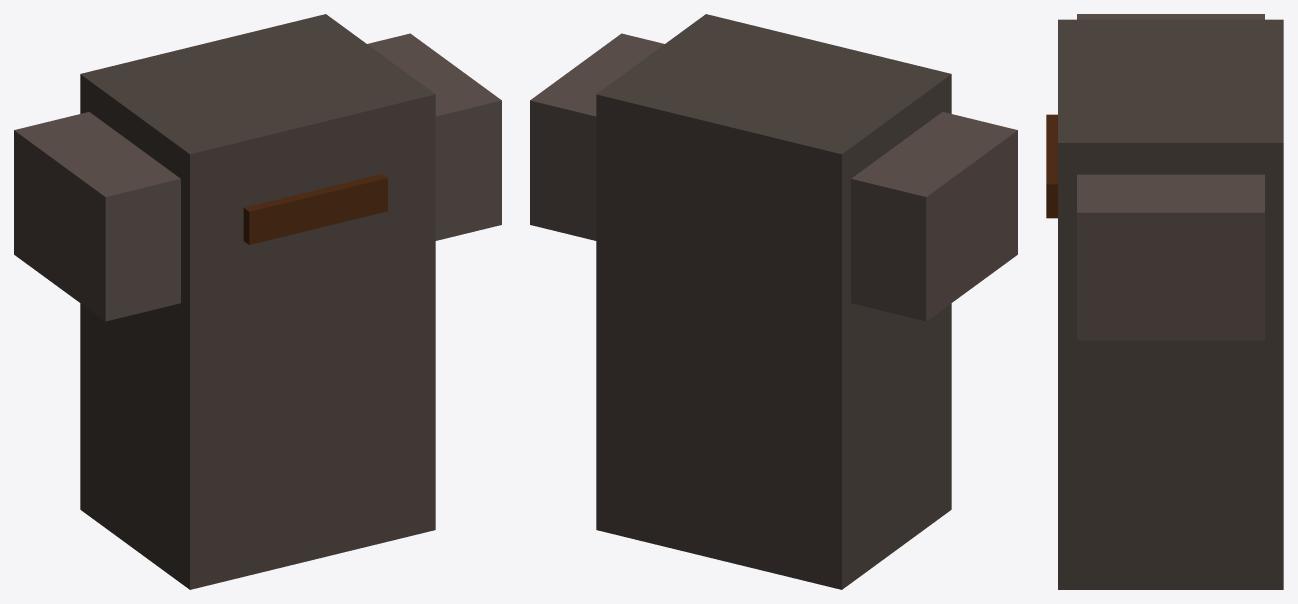
Rendered from slowBruteDown.obj.
3 renders of one model, left to right at view 1: azimuth 30°, elevation 25°; view 2: azimuth 150°, elevation 25°; view 3: azimuth 270°, elevation 25°, orthographic. The views are drawn at different scales.
Size of the model in its own units: 2 by 2.1 by 1.01.
